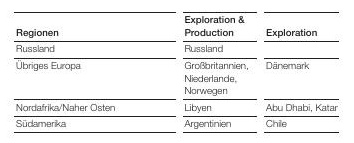table: (0, 0, 354, 143)
